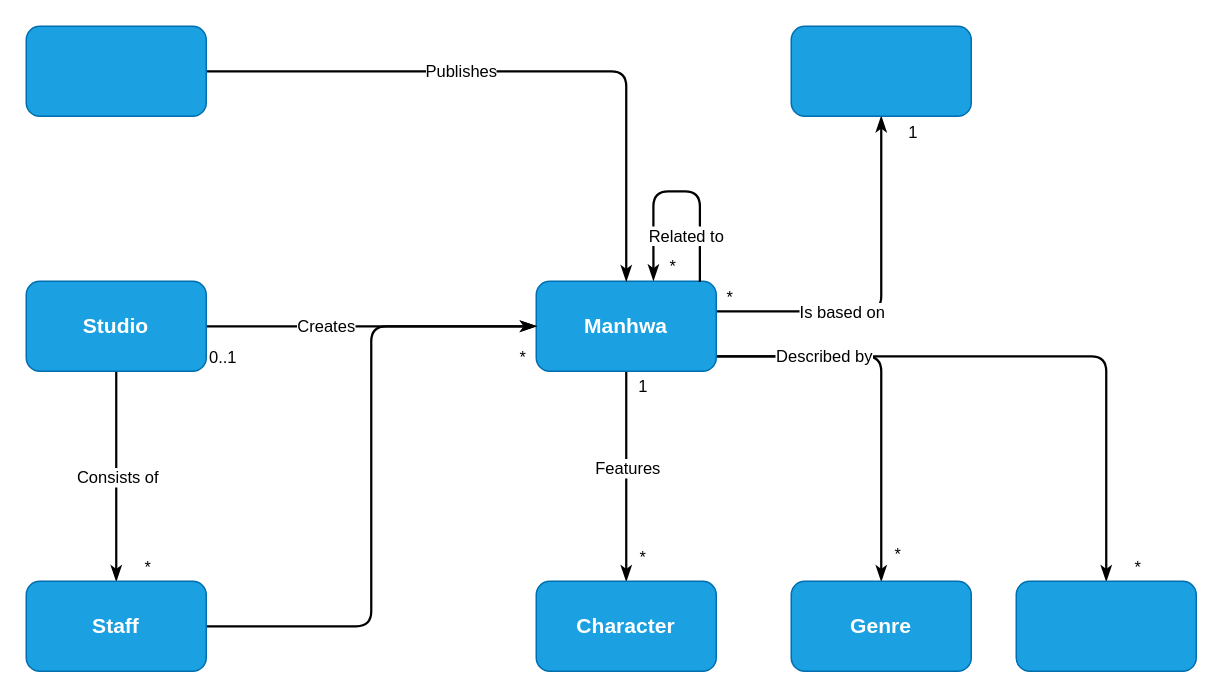
The diagram is 1223 pixels wide and 698 high, and some of its shapes have lost their labels. Each missing label, with the centre of its shape:
Publisher: the point at 115,70
Source Material: the point at 880,70
Tags: the point at 1105,625
